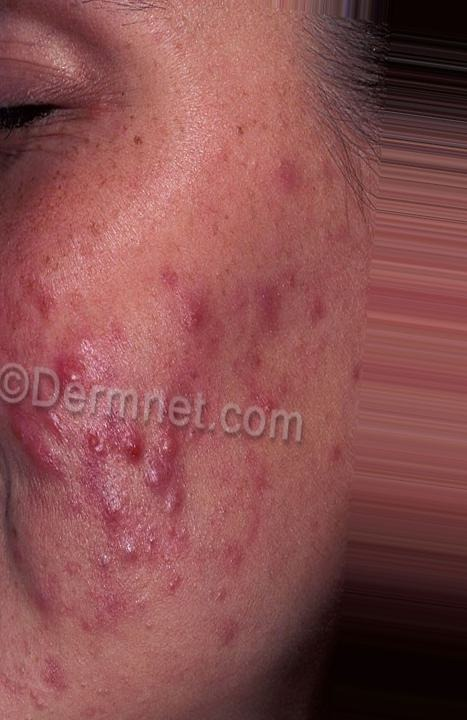Acne: (18, 149, 331, 639)
